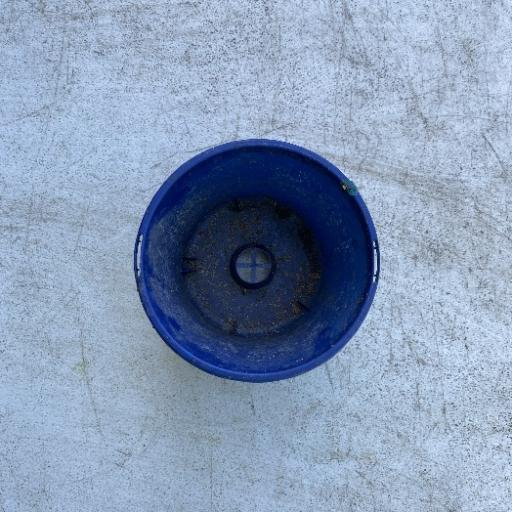Plastic: (130, 136, 383, 385)
